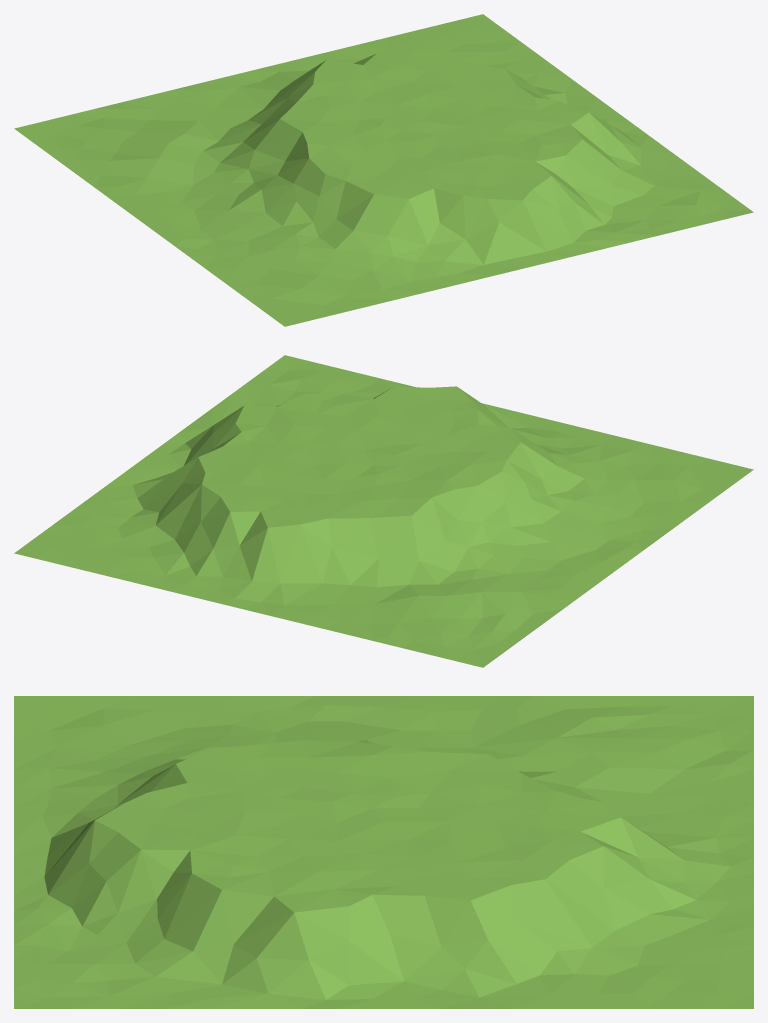
Rendered from MT_Terrain_M_c_09_LOD.fbx.
3 renders of one model, top to bottom at view 1: azimuth 30°, elevation 25°; view 2: azimuth 150°, elevation 25°; view 3: azimuth 270°, elevation 25°, orthographic. The views are drawn at different scales.
Visible parts, largest first — view 1: MT_Terrain_M_c_09_LOD0; view 2: MT_Terrain_M_c_09_LOD0; view 3: MT_Terrain_M_c_09_LOD0.
Part boxes in pixels (x1=…): MT_Terrain_M_c_09_LOD0: x1=14, y1=14, x2=753, y2=326; MT_Terrain_M_c_09_LOD0: x1=14, y1=355, x2=753, y2=667; MT_Terrain_M_c_09_LOD0: x1=14, y1=696, x2=753, y2=1008.
Size of what is drawn, in the model's own units: 5000 by 440 by 5000.
